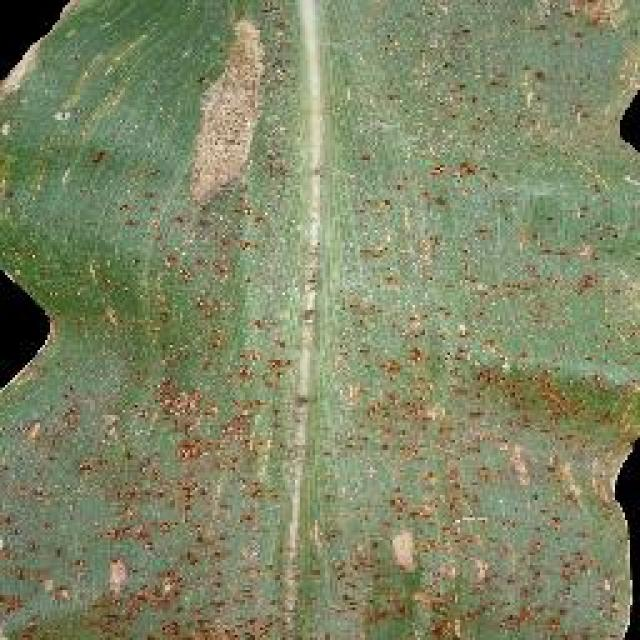Corn Common Rust: (102, 130, 640, 640)
